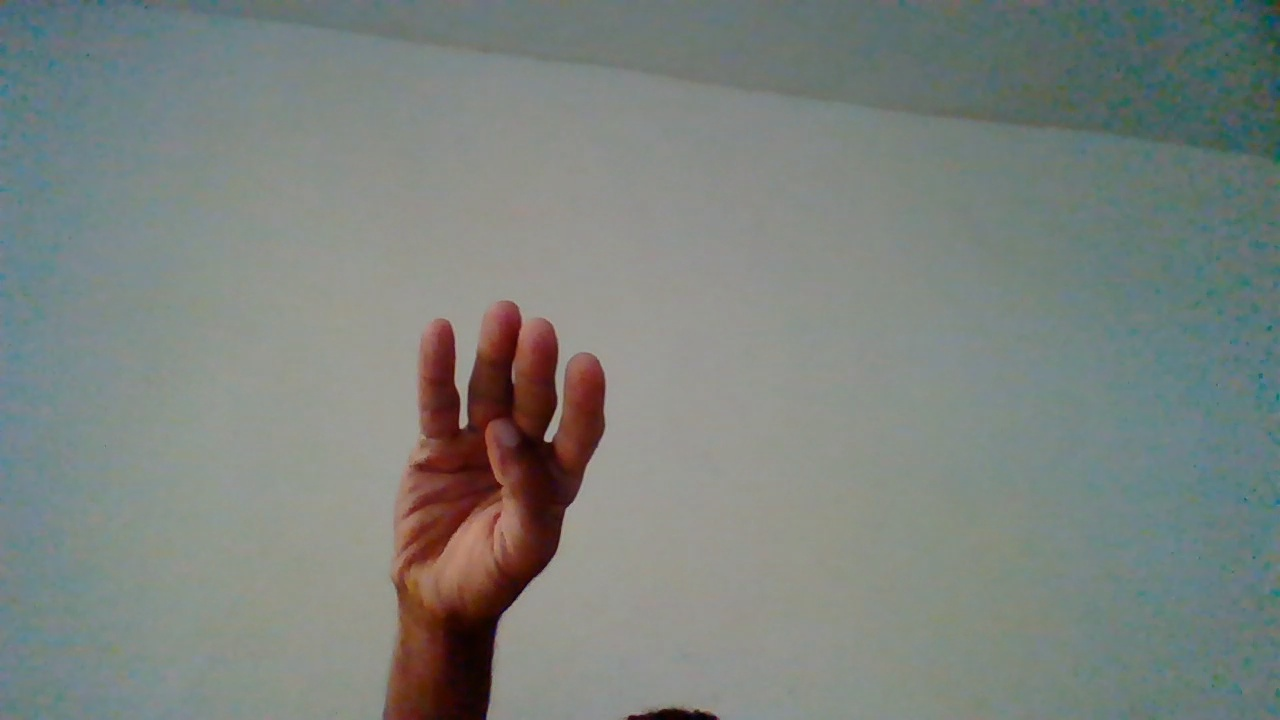me: (377, 303, 605, 701)
